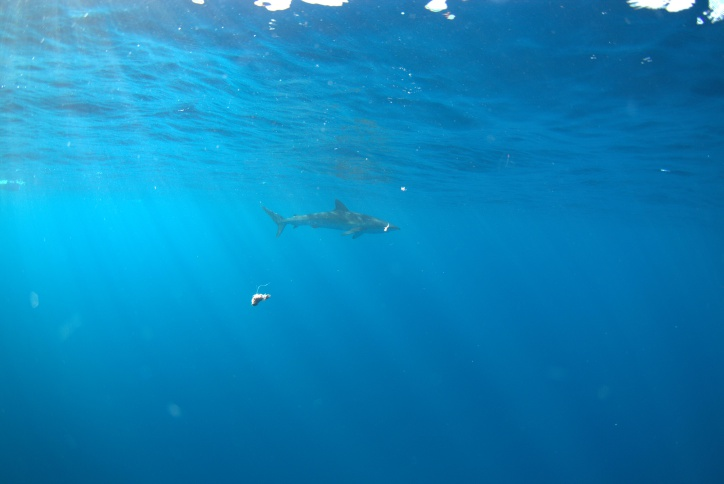Sedoso: (257, 191, 408, 247)
